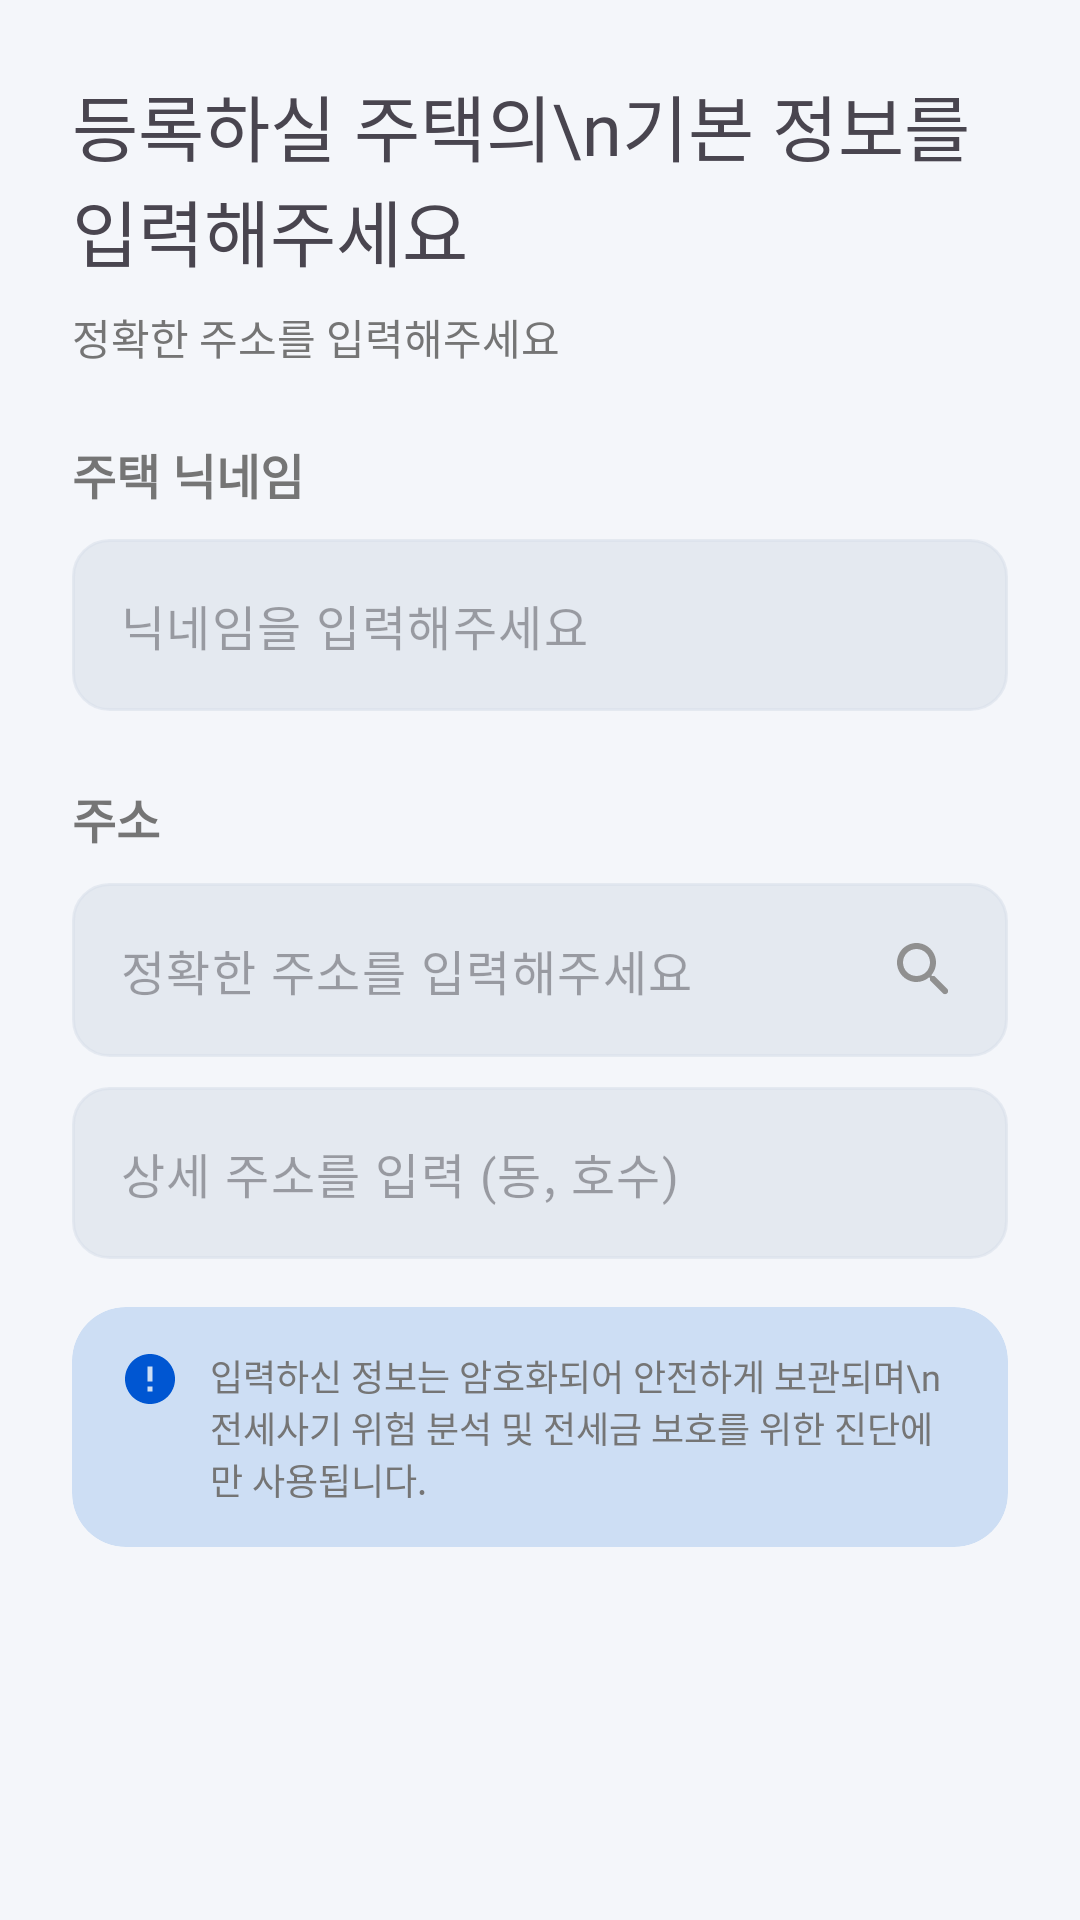

Screen size 1080px x 1920px. Icon name, then its center in pixels as [x,y]:
error: [150,1379]
